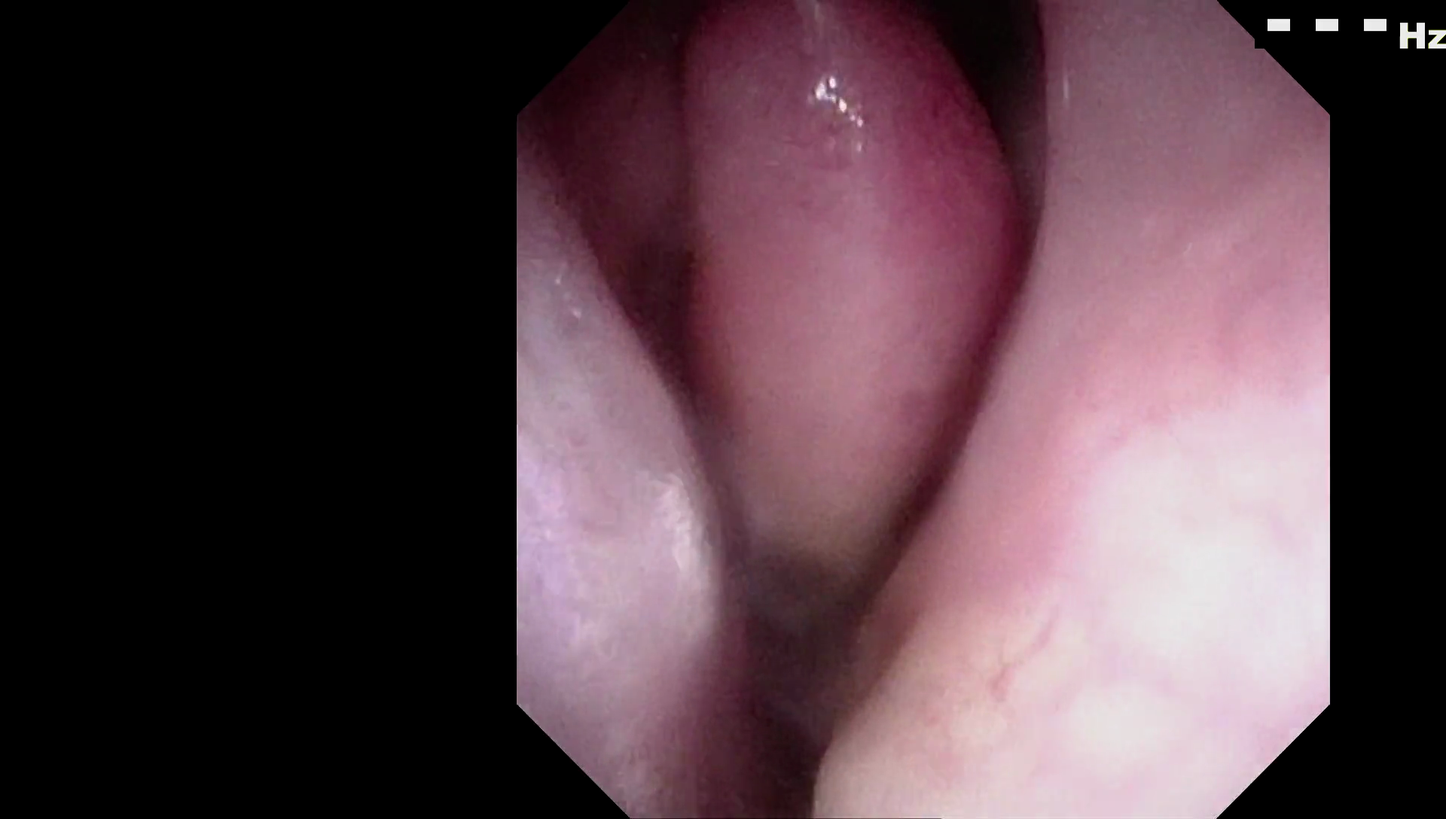close_wall: (868, 401, 1296, 742)
next: (681, 508, 874, 819), (877, 0, 1072, 156)
